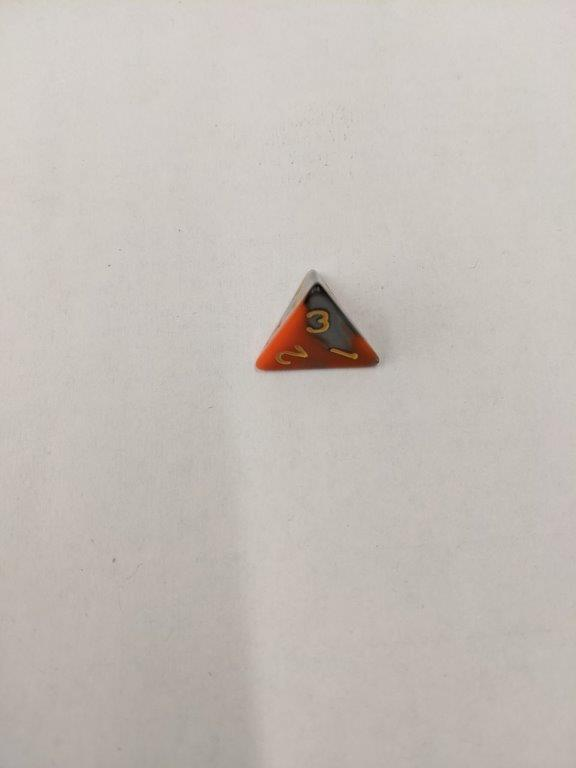d4-3: (249, 263, 383, 378)
